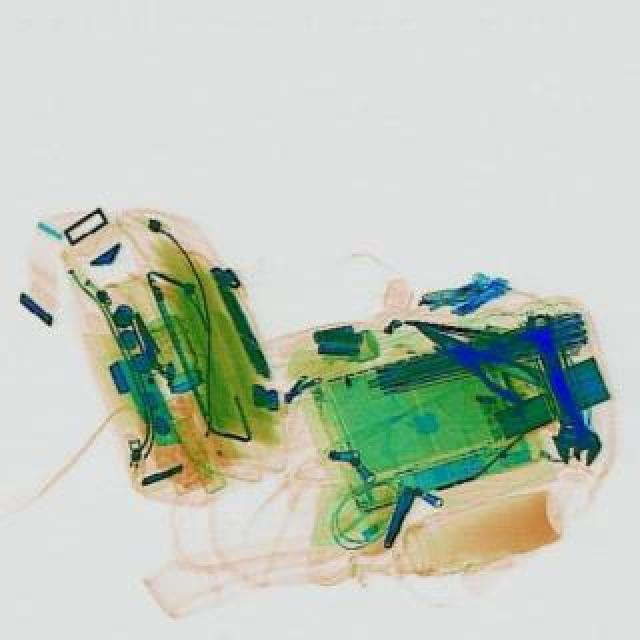scissors: (514, 306, 606, 470)
wrench: (404, 308, 544, 408)
